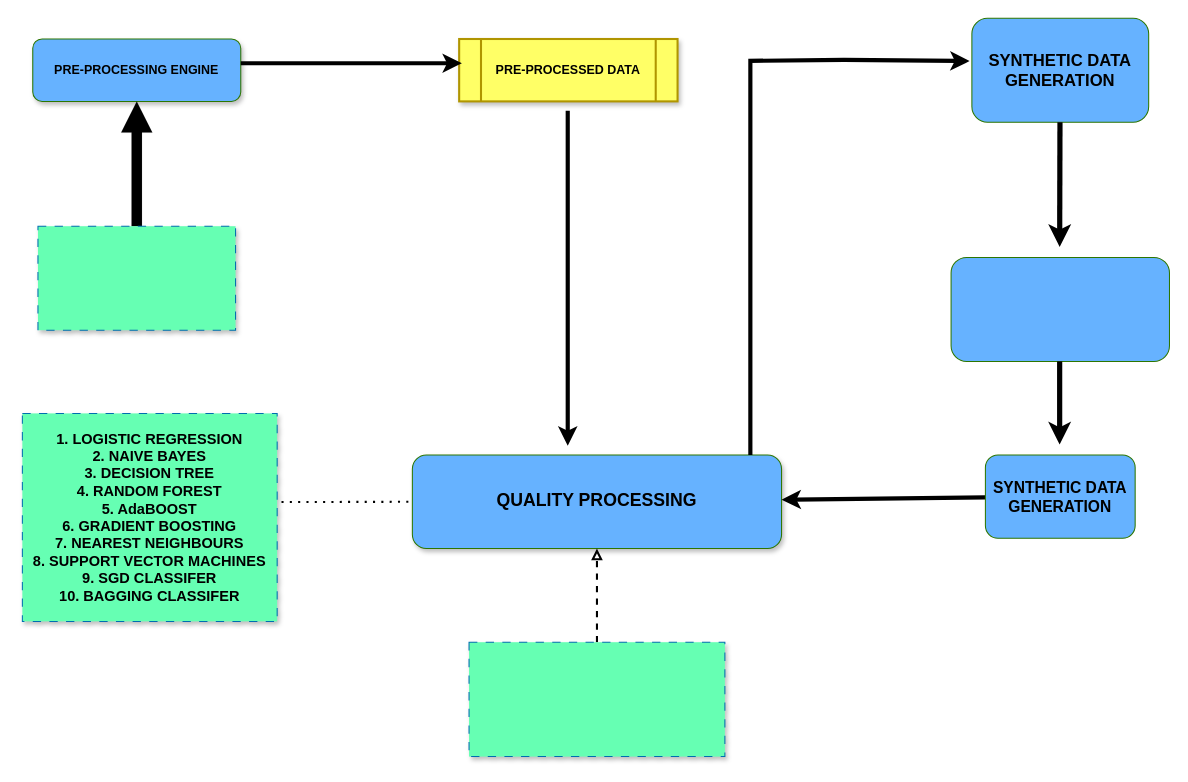
Some shapes in this 1188 by 782 pixel diagram are drawn without their labels. The shapes that lost their labels are listed below. From the top down, each one's centre as x and y in pixels, then its label:
At [137,279]: "1. DATA SAMPLING 2. DATA CLEANING 3. FEATURE SELECTION 4. LABEL ENCODING".
At [1059,308]: "GAUSSIAN COPULA SYNTHESIZER".
At [597,700]: "ACCURACY PRECISION RECALL".
